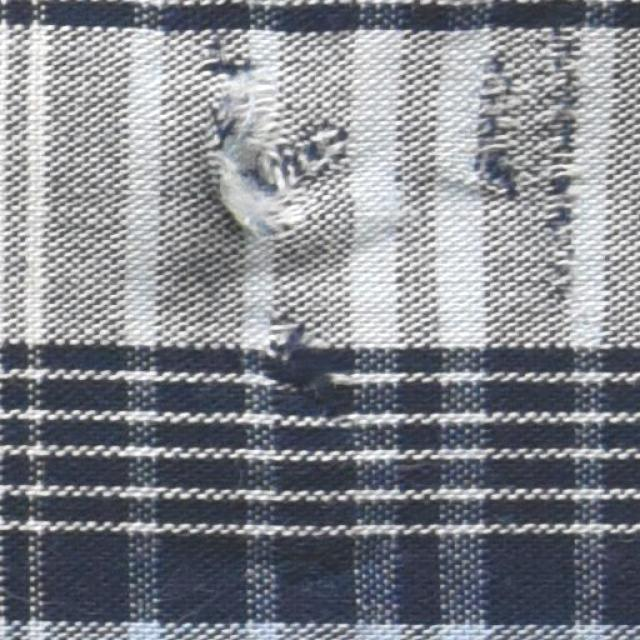Snag: (198, 60, 338, 251), (524, 12, 592, 285), (456, 67, 535, 201), (275, 313, 338, 396)
